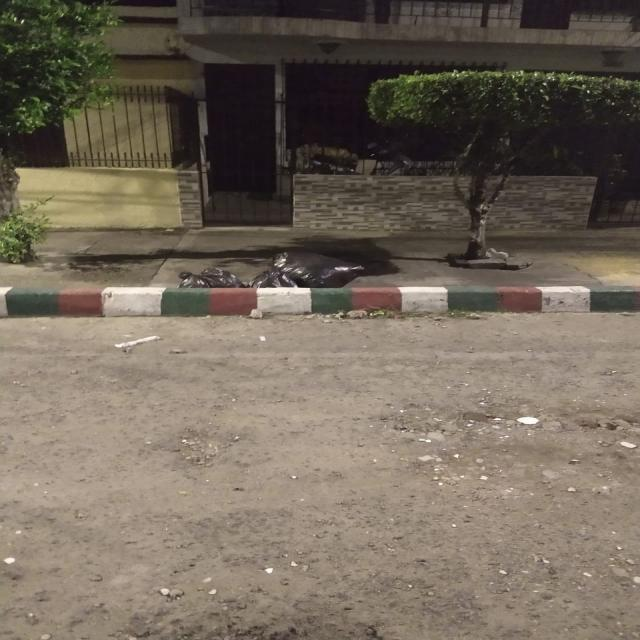Trashbag: (273, 247, 372, 285), (170, 265, 238, 291), (242, 260, 286, 290)
